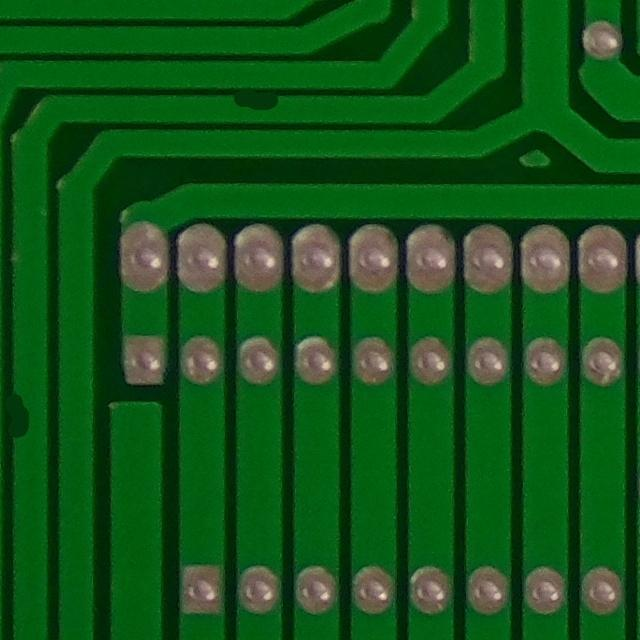mouse_bite: (222, 79, 293, 121), (0, 388, 42, 451)
